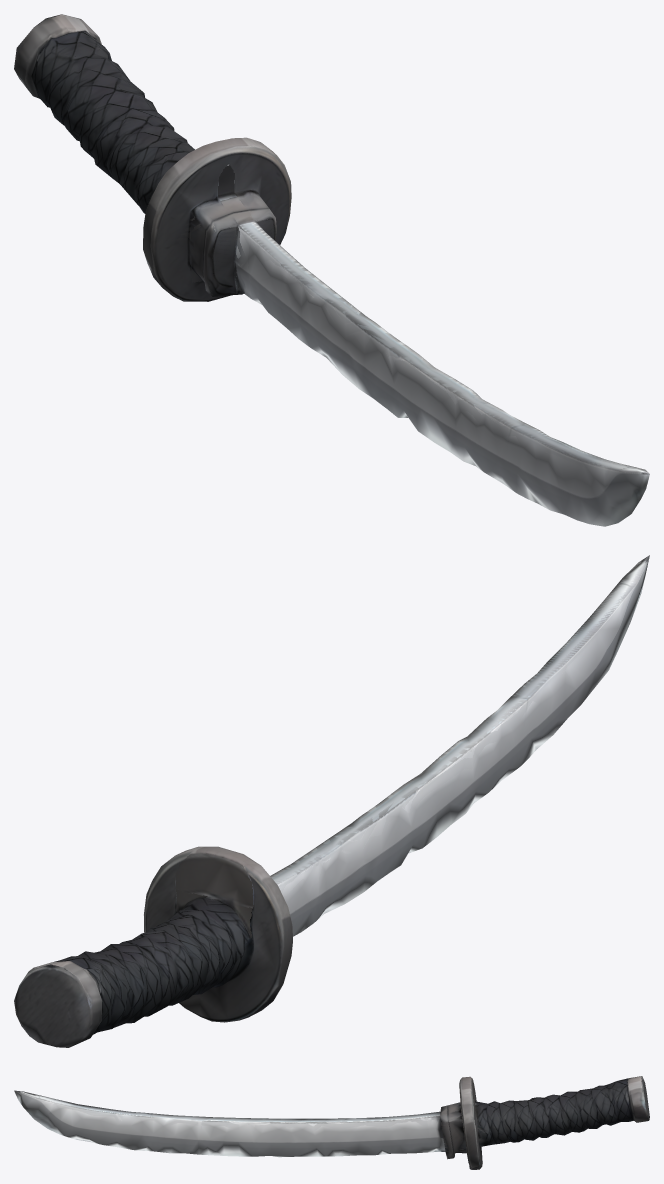
Rendered from weapon_sword.glb.
3 renders of one model, top to bottom at view 1: azimuth 30°, elevation 25°; view 2: azimuth 150°, elevation 25°; view 3: azimuth 270°, elevation 25°, orthographic. The views are drawn at different scales.
Visible parts, largest first — view 1: texture_mapping; view 2: texture_mapping; view 3: texture_mapping.
Part boxes in pixels (x1,y1,x2,y2): texture_mapping: (14,14,649,526); texture_mapping: (14,555,649,1047); texture_mapping: (14,1076,649,1169).
Size of the model in its own units: 0.1355 by 0.1546 by 1.
1 material, 1 textured.
